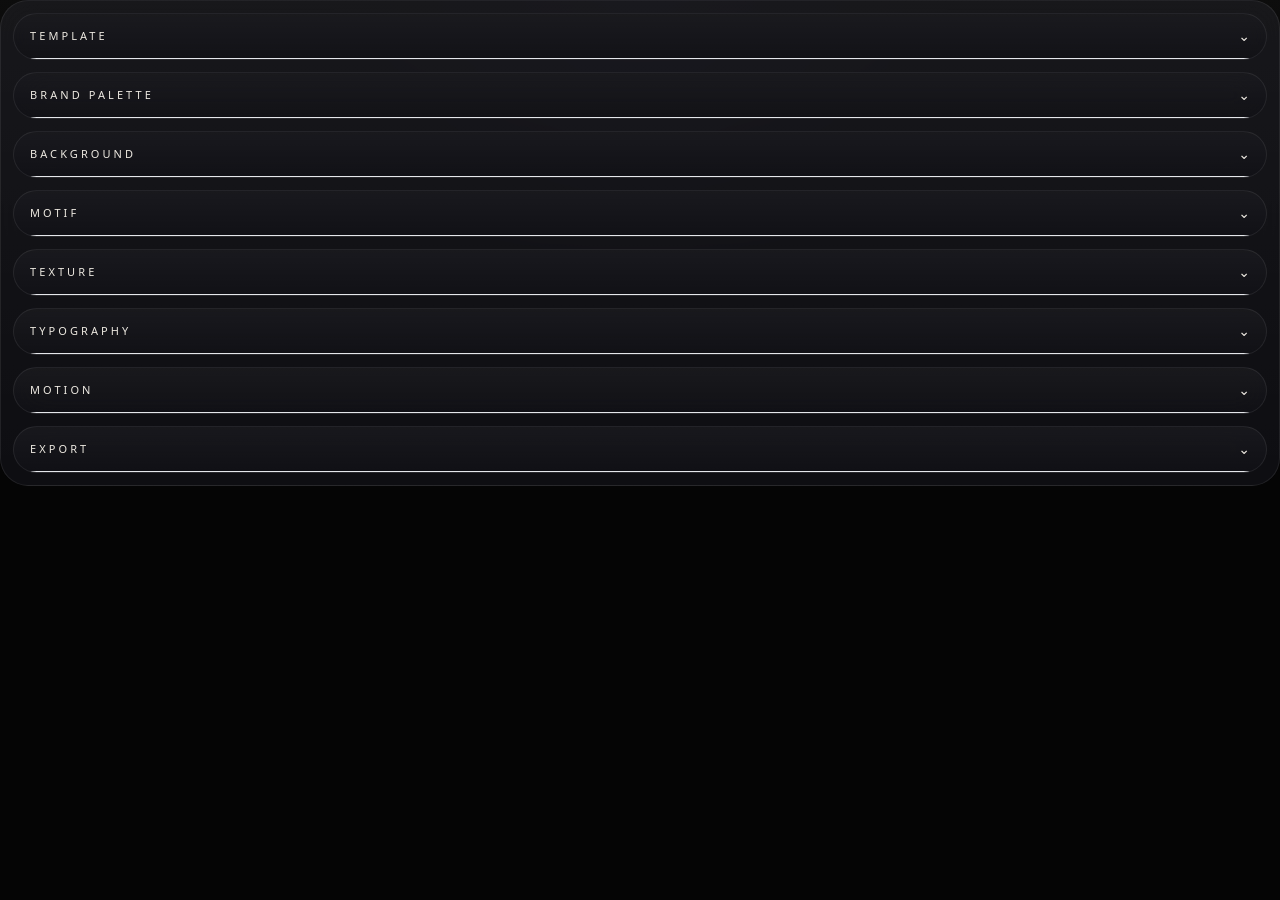
ControlPanel › focuses one section at a time and gives the active section the full pane
Click the button "Background ⌄": (83,153) [30, 144, 1250, 164]
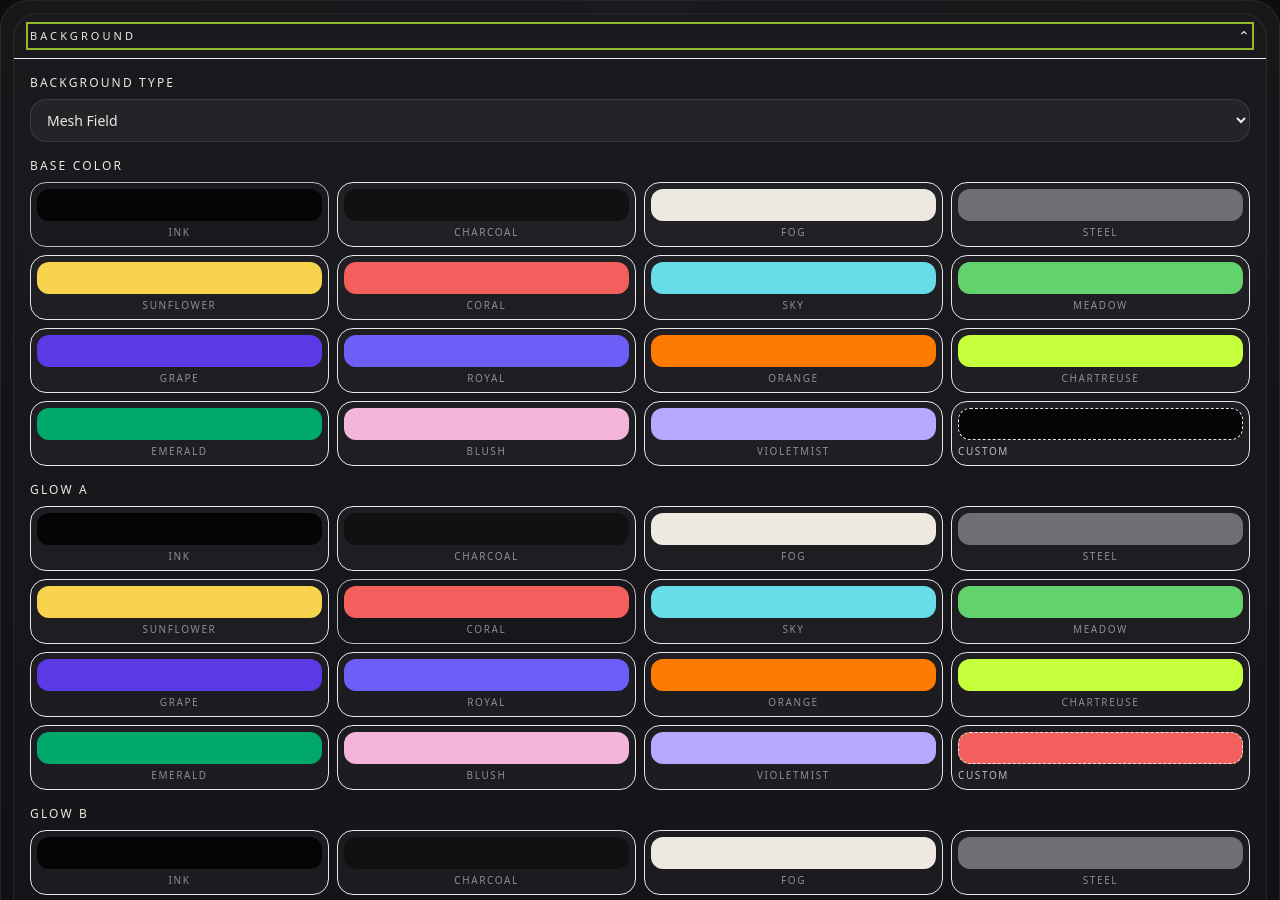
Now the button "Background ⌄" is expanded
Now the dropdown labelled "Background Type" is shown, box [30, 99, 1250, 142]
Now the button "Template" is gone
Click the button "Background ⌄": (83,35) [30, 26, 1250, 46]
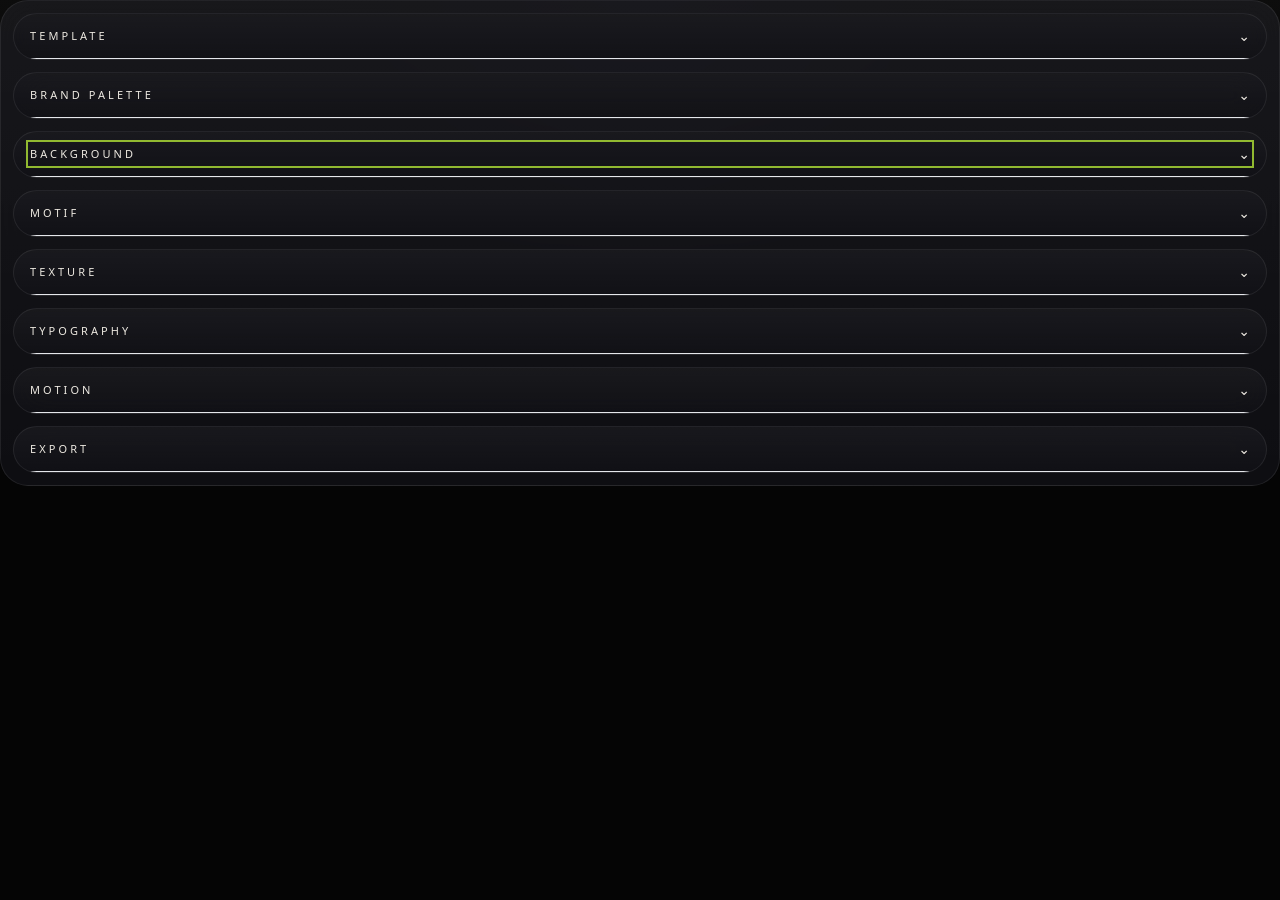
Now the button "Template ⌄" is shown, box [30, 26, 1250, 46]
Now the button "Background ⌄" is collapsed, box [30, 144, 1250, 164]
